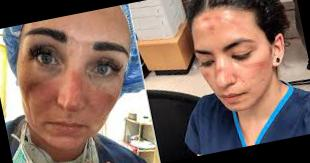without_mask: (17, 13, 140, 158), (193, 28, 283, 118)
